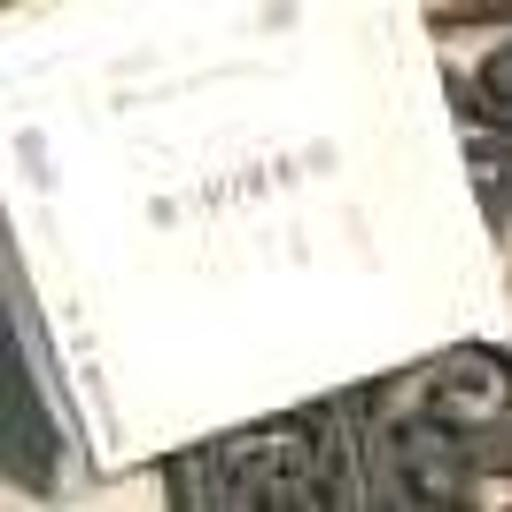Other: (0, 2, 481, 454)
